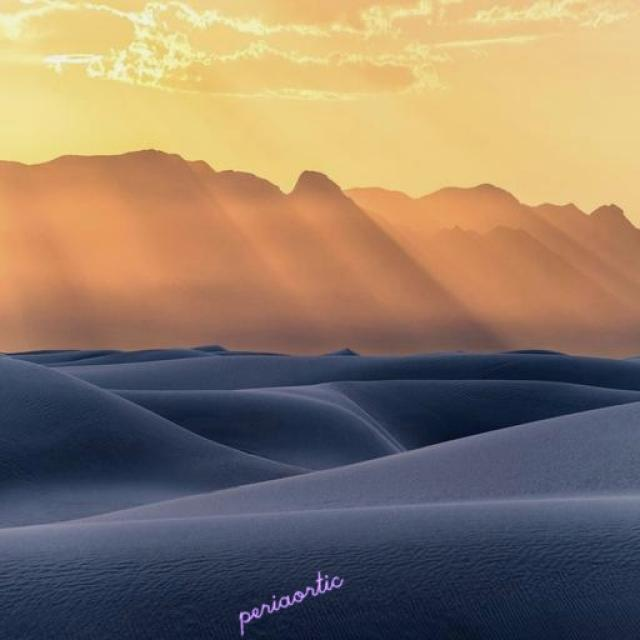watermark: (234, 560, 344, 628)
